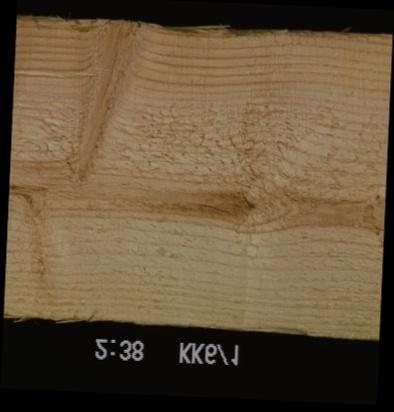wave: (15, 17, 304, 47)
